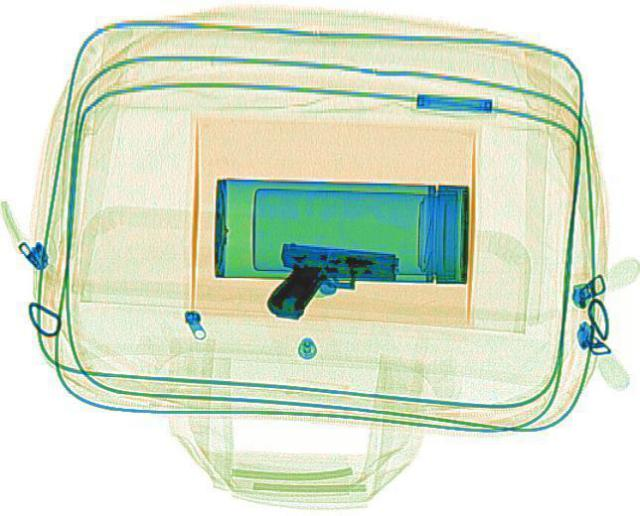Gun: (262, 242, 400, 324)
